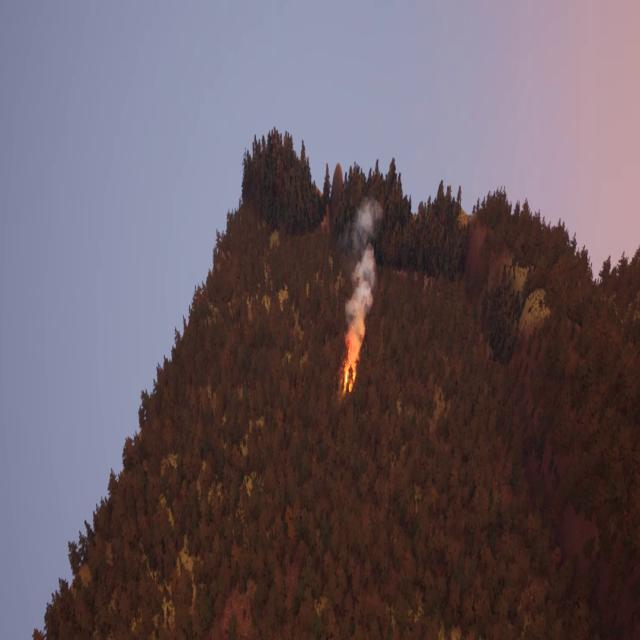fire: (342, 332, 364, 397)
smoke: (346, 200, 378, 328)
